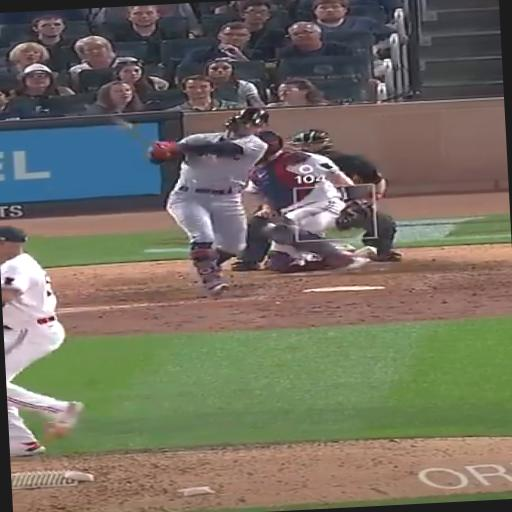bat: (103, 108, 155, 141)
